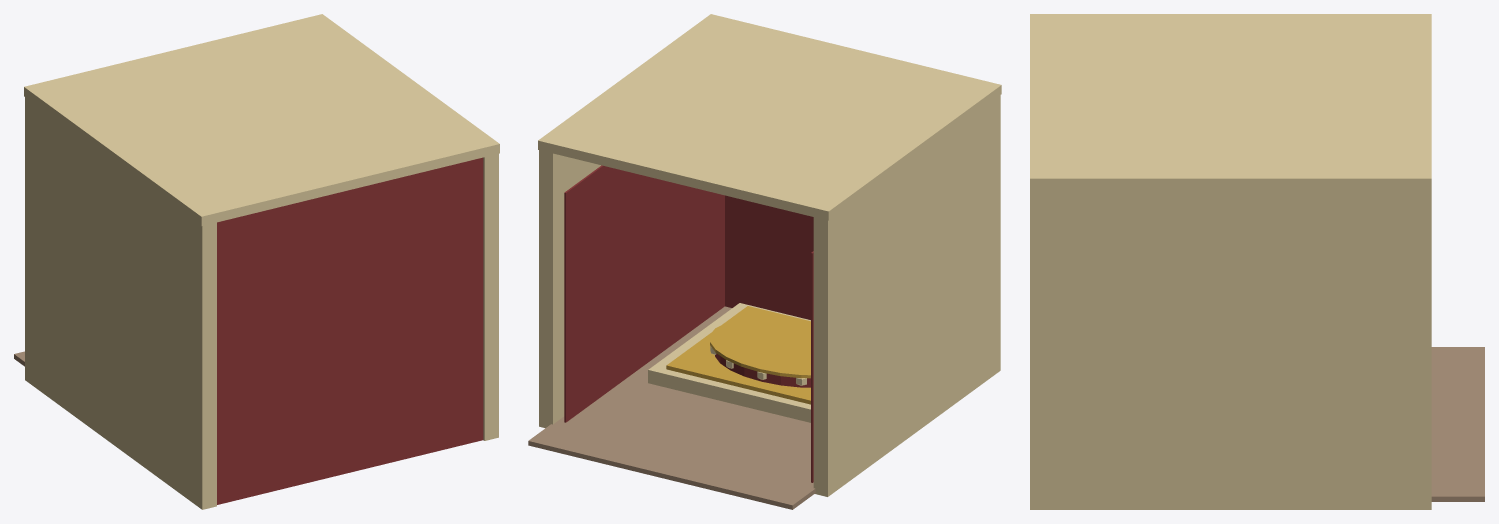
The model's file is KOL_T1_DAKSHINESHWAR__07_Shrine_Chamber.fbx.
3 views of the same model, side by side, from view 1: azimuth 30°, elevation 25°; view 2: azimuth 150°, elevation 25°; view 3: azimuth 270°, elevation 25° (orthographic). The views are drawn at different scales.
Parts seen in each view (by area): view 1: KOL_T1_DAKSHINESHWAR__07_Shrine_Chamber__KOL_T1_TempleCream, KOL_T1_DAKSHINESHWAR__07_Shrine_Chamber__KOL_T1_TempleRed; view 2: KOL_T1_DAKSHINESHWAR__07_Shrine_Chamber__KOL_T1_TempleCream, KOL_T1_DAKSHINESHWAR__07_Shrine_Chamber__KOL_T1_TempleRed, KOL_T1_DAKSHINESHWAR__07_Shrine_Chamber__KOL_T1_TempleStone, KOL_T1_DAKSHINESHWAR__07_Shrine_Chamber__KOL_T1_KaliGold; view 3: KOL_T1_DAKSHINESHWAR__07_Shrine_Chamber__KOL_T1_TempleCream, KOL_T1_DAKSHINESHWAR__07_Shrine_Chamber__KOL_T1_TempleStone.
Part boxes in pixels (left/top/right/bottom): KOL_T1_DAKSHINESHWAR__07_Shrine_Chamber__KOL_T1_TempleCream: left=24, top=14, right=499, bottom=509; KOL_T1_DAKSHINESHWAR__07_Shrine_Chamber__KOL_T1_TempleRed: left=217, top=157, right=483, bottom=504; KOL_T1_DAKSHINESHWAR__07_Shrine_Chamber__KOL_T1_TempleCream: left=538, top=14, right=1001, bottom=496; KOL_T1_DAKSHINESHWAR__07_Shrine_Chamber__KOL_T1_TempleRed: left=564, top=165, right=813, bottom=482; KOL_T1_DAKSHINESHWAR__07_Shrine_Chamber__KOL_T1_TempleStone: left=528, top=306, right=815, bottom=509; KOL_T1_DAKSHINESHWAR__07_Shrine_Chamber__KOL_T1_KaliGold: left=666, top=306, right=810, bottom=404; KOL_T1_DAKSHINESHWAR__07_Shrine_Chamber__KOL_T1_TempleCream: left=1030, top=14, right=1431, bottom=509; KOL_T1_DAKSHINESHWAR__07_Shrine_Chamber__KOL_T1_TempleStone: left=1431, top=347, right=1484, bottom=501.
Bounding box in the file's own units: 33 × 31 × 38.5.
